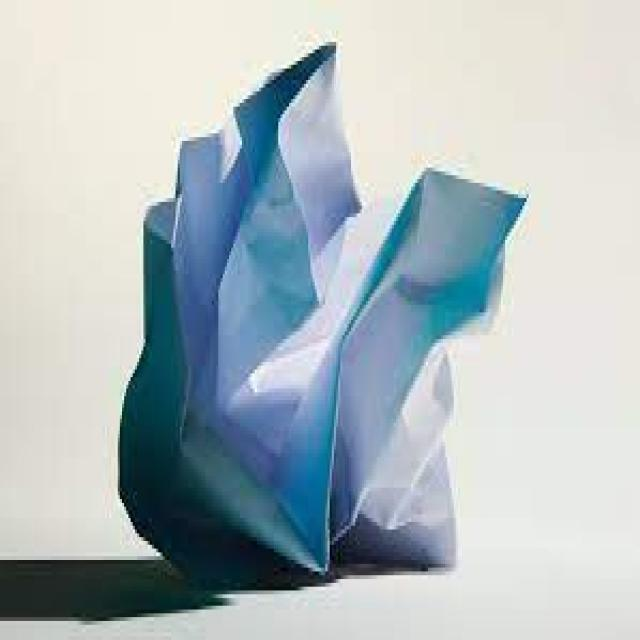Paper: (120, 46, 529, 590)
